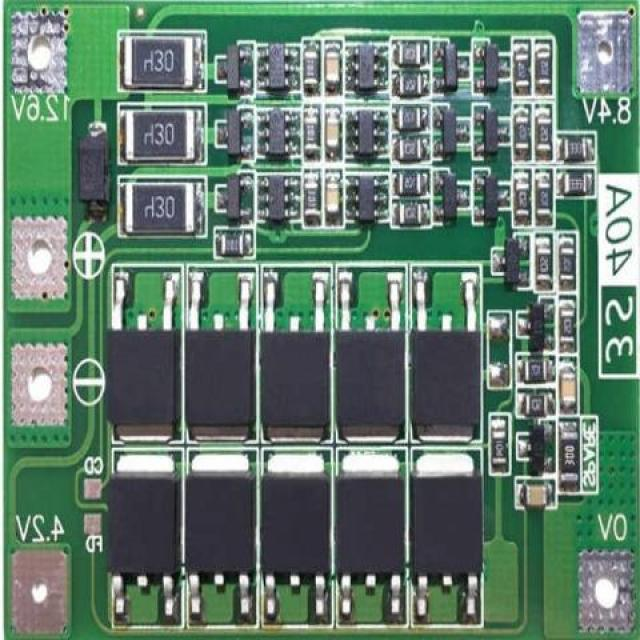IC: (260, 464, 332, 610), (186, 468, 260, 610), (108, 464, 184, 602), (336, 288, 404, 441), (410, 288, 482, 431), (105, 300, 183, 432), (260, 294, 330, 438), (184, 294, 256, 434), (412, 455, 480, 597), (340, 461, 404, 607), (264, 36, 290, 96), (262, 108, 290, 156), (354, 42, 379, 94), (262, 175, 288, 221), (356, 104, 381, 150), (356, 174, 378, 218)
capacitor: (554, 364, 576, 408), (324, 45, 340, 95), (326, 107, 340, 161), (327, 174, 341, 217), (518, 482, 546, 502)
diode: (76, 130, 108, 210)
resistor: (120, 180, 196, 236), (120, 40, 200, 92), (122, 110, 194, 162), (488, 417, 508, 472), (558, 238, 578, 290), (300, 174, 318, 228), (536, 170, 554, 222), (556, 302, 578, 344), (399, 40, 429, 70), (536, 239, 552, 293), (562, 428, 578, 482), (536, 109, 552, 154), (305, 46, 319, 96), (522, 392, 548, 418), (516, 174, 530, 222), (396, 202, 426, 224), (534, 48, 550, 88), (302, 116, 318, 156), (513, 44, 527, 89), (398, 105, 428, 126), (562, 136, 586, 162), (214, 237, 248, 255), (398, 76, 428, 96), (396, 136, 426, 156), (400, 170, 426, 193), (516, 114, 530, 154), (564, 173, 588, 196), (526, 359, 548, 382)
transistor: (479, 105, 505, 155), (220, 41, 244, 95), (441, 48, 466, 98), (440, 170, 464, 220), (497, 240, 523, 286), (438, 110, 464, 156), (222, 172, 246, 220), (481, 40, 503, 90), (478, 174, 502, 217), (524, 305, 546, 351), (524, 422, 546, 468), (226, 110, 246, 156)
